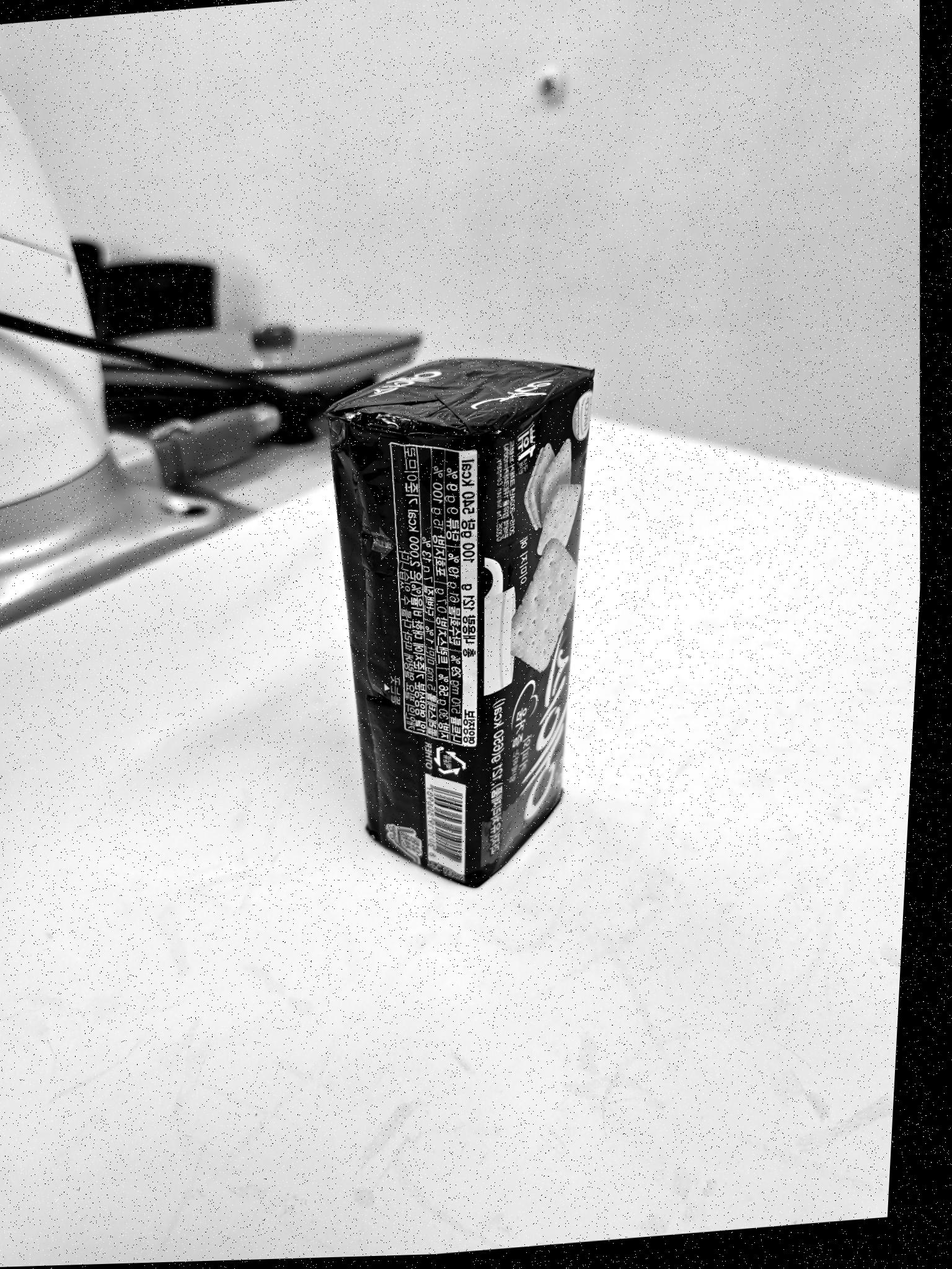cracker_ace: (328, 357, 593, 887)
